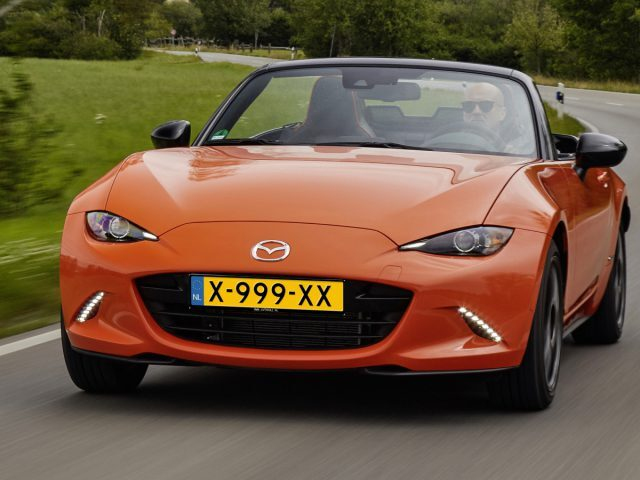kenteken: (190, 274, 345, 315)
